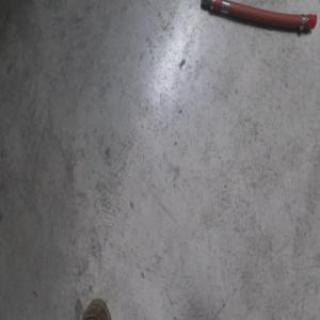Hosetrack_idkeyframe: (199, 0, 317, 35)
